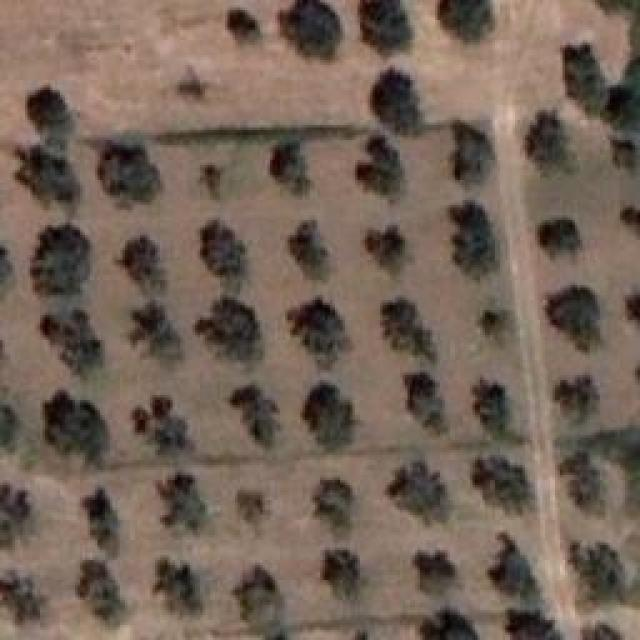Tree: (45, 390, 108, 466), (195, 297, 264, 362), (288, 298, 351, 368), (233, 565, 289, 640), (33, 225, 92, 296), (388, 460, 451, 526), (18, 144, 83, 206), (98, 144, 162, 204), (43, 315, 106, 375), (450, 203, 498, 280), (280, 0, 343, 58), (473, 455, 536, 513), (548, 285, 601, 352), (303, 383, 353, 451), (78, 560, 128, 626), (570, 542, 625, 602), (488, 532, 538, 597), (563, 48, 609, 117), (118, 235, 170, 296), (383, 303, 437, 361), (373, 68, 419, 134), (230, 385, 276, 448), (357, 135, 405, 195), (157, 473, 207, 530), (132, 303, 180, 361), (360, 0, 412, 53), (155, 560, 204, 615), (525, 110, 569, 171), (82, 487, 120, 557), (405, 373, 447, 435), (560, 454, 603, 514), (200, 220, 245, 277), (0, 570, 44, 623), (472, 380, 510, 441), (555, 375, 601, 425), (290, 223, 330, 280), (455, 123, 493, 183), (270, 143, 311, 195), (440, 0, 492, 41), (28, 88, 72, 134), (0, 485, 31, 548), (420, 607, 479, 640), (413, 550, 456, 593), (322, 550, 360, 598), (603, 85, 640, 134), (315, 478, 351, 528), (368, 228, 408, 273), (508, 610, 564, 640), (538, 220, 582, 257), (153, 418, 194, 452), (228, 10, 261, 43), (478, 307, 508, 341), (237, 490, 265, 525), (178, 65, 204, 100), (0, 405, 18, 450), (583, 622, 624, 640), (200, 166, 221, 200), (613, 138, 635, 168), (598, 0, 640, 15), (620, 208, 640, 238), (153, 398, 173, 421), (627, 292, 640, 322)
